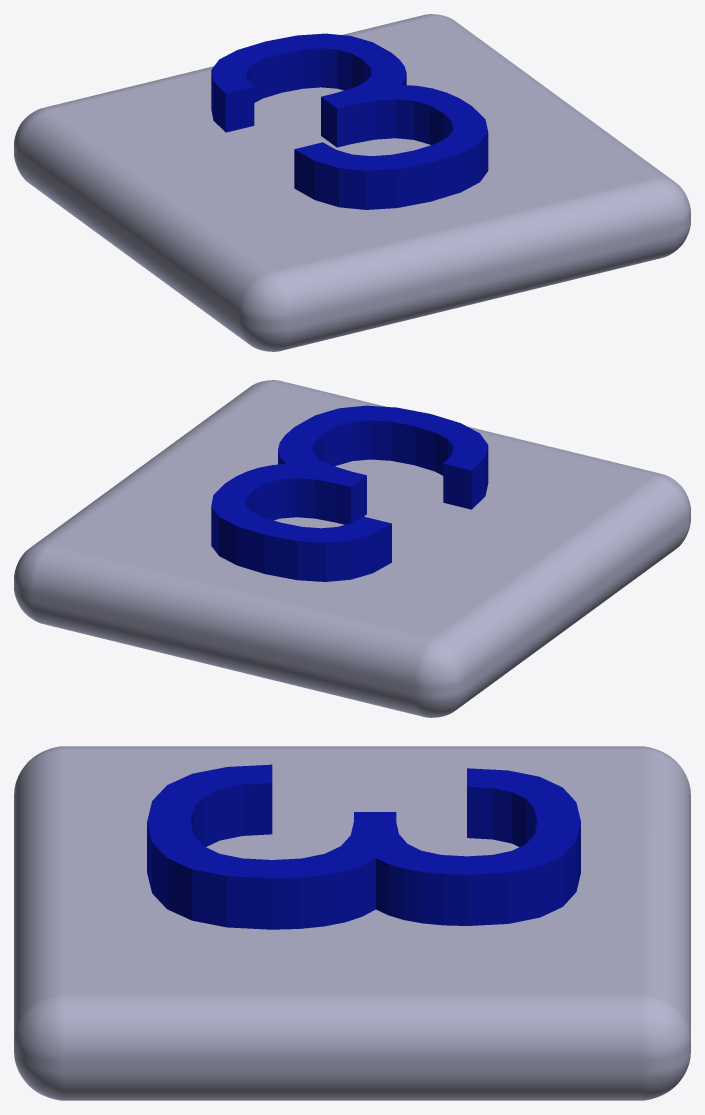
The model's file is button3.glb.
The picture shows the model from 3 angles, top to bottom: view 1: azimuth 30°, elevation 25°; view 2: azimuth 150°, elevation 25°; view 3: azimuth 270°, elevation 25°; orthographic projection. The views are drawn at different scales.
Parts seen in each view (by area): view 1: Box, 3D Text - 3; view 2: Box, 3D Text - 3; view 3: Box, 3D Text - 3.
Boxes of the visible parts, x1,y1,x2,y2 form: Box: [14, 14, 690, 351]; 3D Text - 3: [211, 33, 488, 209]; Box: [14, 380, 690, 717]; 3D Text - 3: [211, 405, 488, 581]; Box: [14, 746, 690, 1100]; 3D Text - 3: [147, 764, 580, 929].
Size of the model in its own units: 0.1 by 0.0249 by 0.1.
